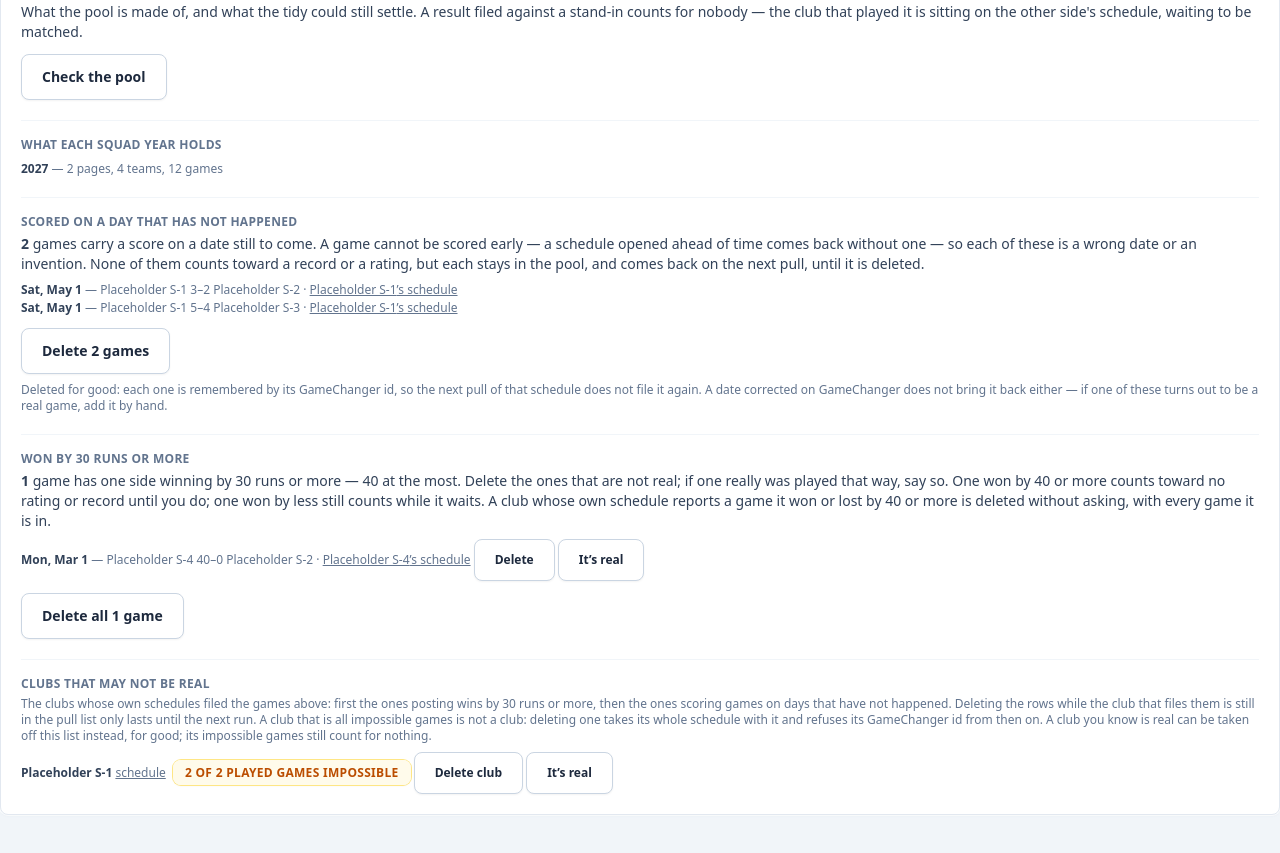
Pool health's buttons, sent as edits › files a club at the age its evidence points to, with an undo, and takes it off the list
The width and height of the screenshot is (1280, 853).
Step 1. Click the button "Check the pool" → (94, 77), box [21,54,167,100]
(page scrolled)
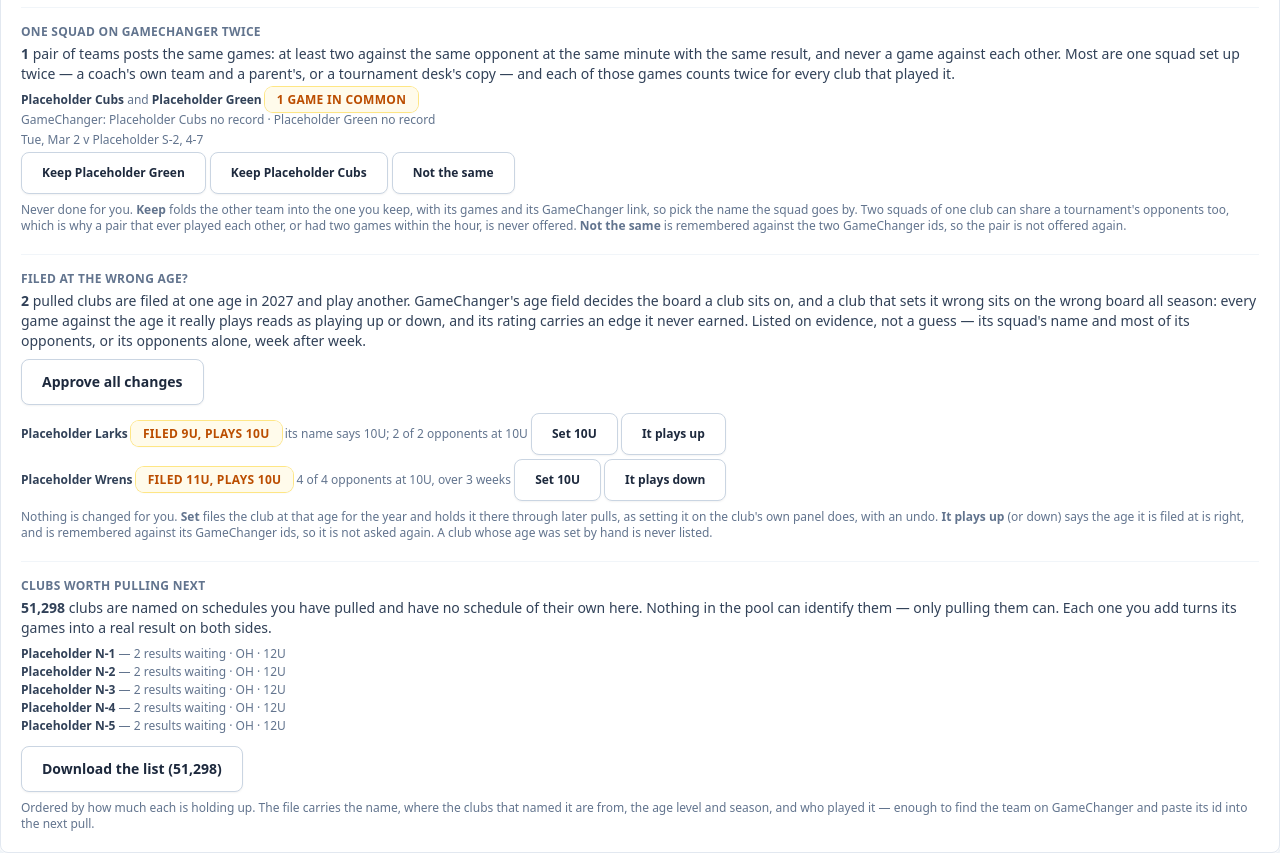
Step 2. Click the button "Set 10U" in the row of "Placeholder Larks" → (574, 434), box [531,413,618,455]
(page scrolled)
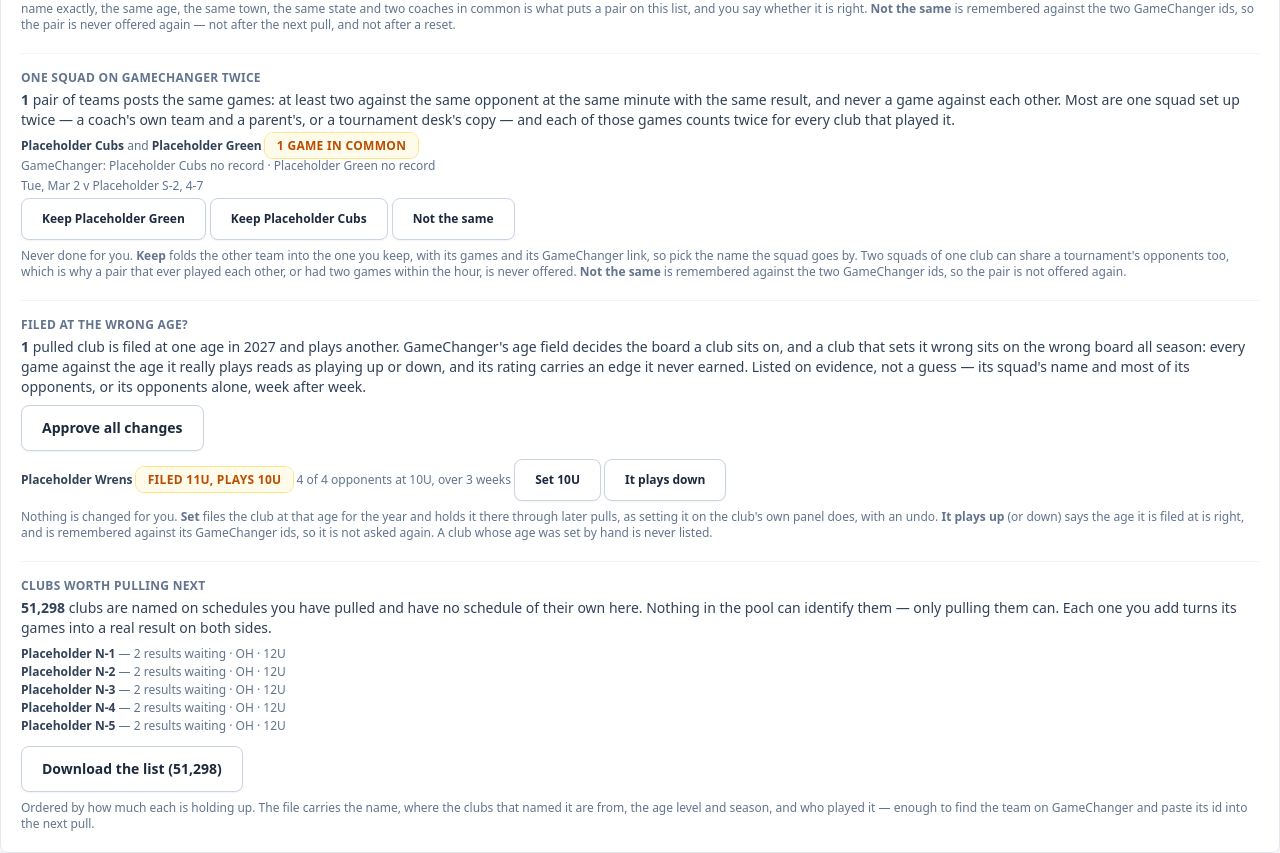
Now the text "Placeholder Larks" is gone
